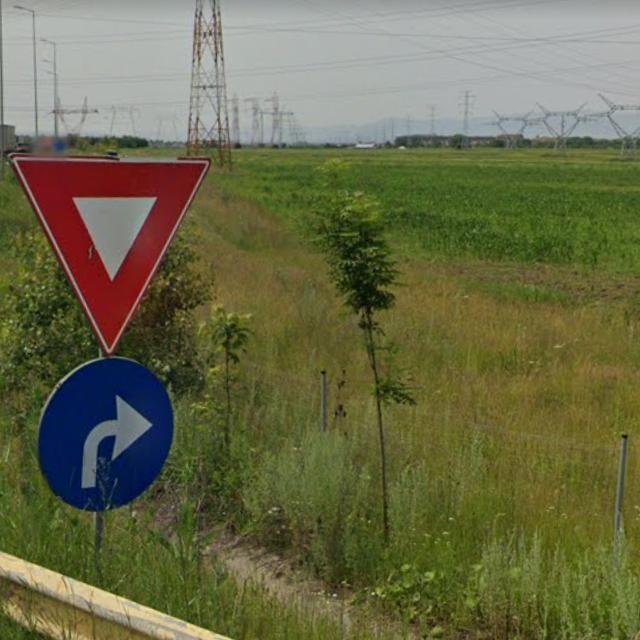prio_give_way: (6, 148, 208, 357)
